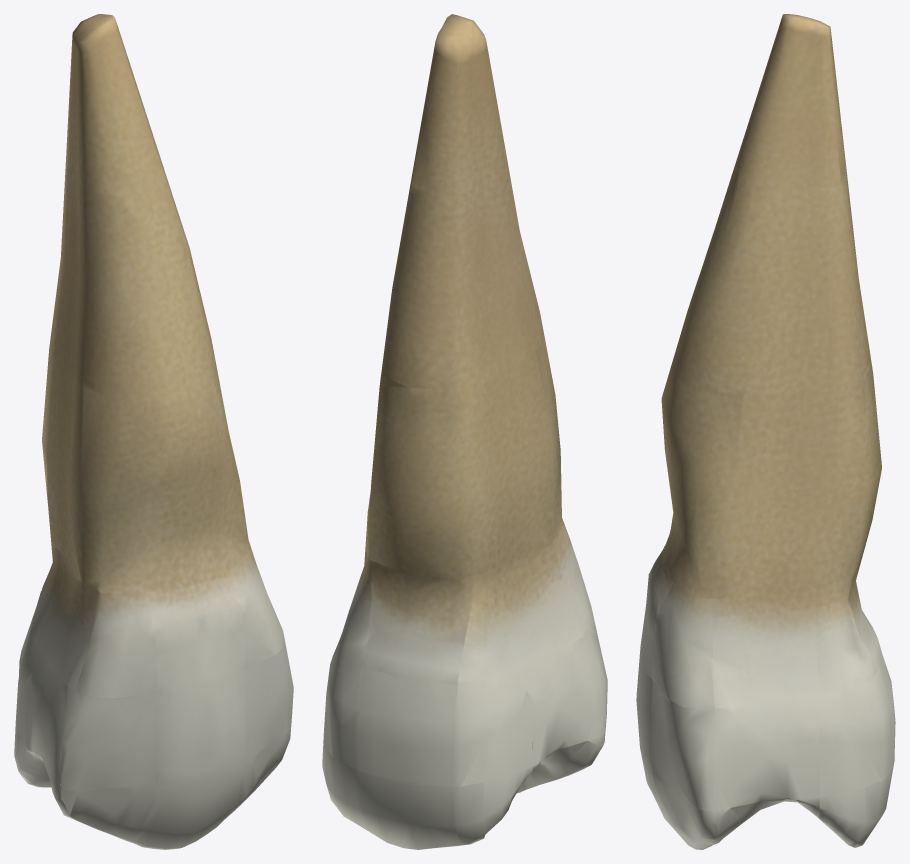
Rendered from Left_Upper_Second_Premolar.glb.
3 views of the same model, side by side, from view 1: azimuth 30°, elevation 25°; view 2: azimuth 150°, elevation 25°; view 3: azimuth 270°, elevation 25° (orthographic). The views are drawn at different scales.
Visible parts, largest first — view 1: Human_Teeth_Upper_Second_Premolar_Geo.005; view 2: Human_Teeth_Upper_Second_Premolar_Geo.005; view 3: Human_Teeth_Upper_Second_Premolar_Geo.005.
Boxes of the visible parts, x1=… form: Human_Teeth_Upper_Second_Premolar_Geo.005: x1=14, y1=14, x2=293, y2=849; Human_Teeth_Upper_Second_Premolar_Geo.005: x1=322, y1=14, x2=607, y2=849; Human_Teeth_Upper_Second_Premolar_Geo.005: x1=636, y1=14, x2=895, y2=849.
Bounding box in the file's own units: 0.8841 × 2.84 × 0.8175.
30 materials, 30 textured.
